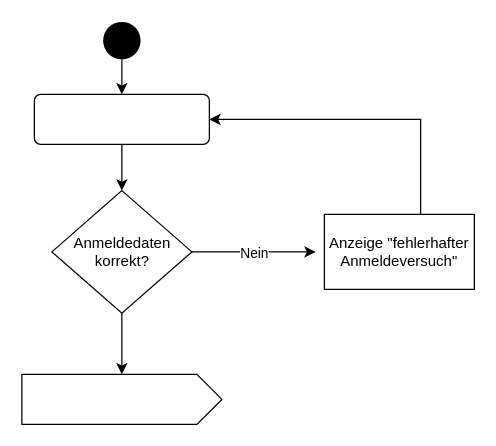
The diagram is 496 pixels wide and 446 high, and some of its shapes have lost their labels. The shapes that lost their labels are listed below. From the top down, each one's centre as x and y in pixels, then its label:
At point 121,118: "Eingabe Benutzername und Passwort".
At point 121,398: "Login".
